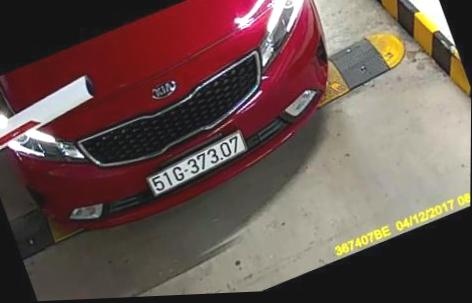License_Plate: (144, 125, 252, 208)
